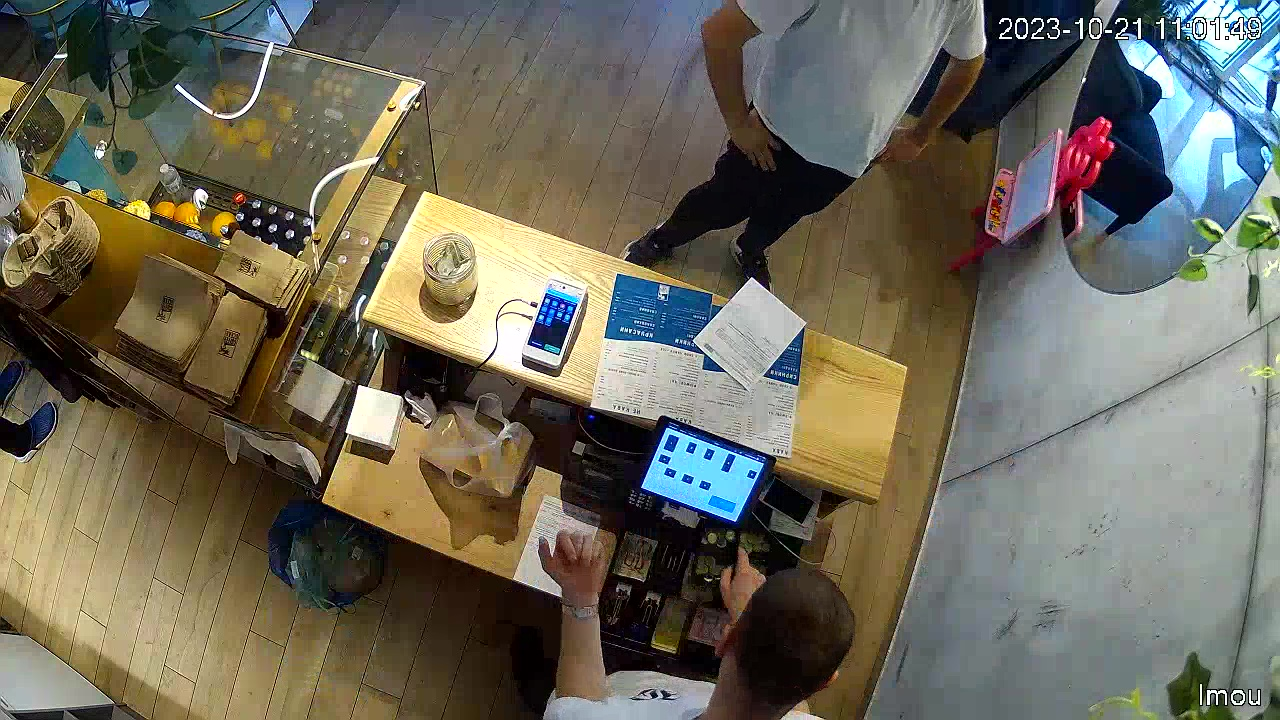openedcash: (595, 497, 817, 690)
